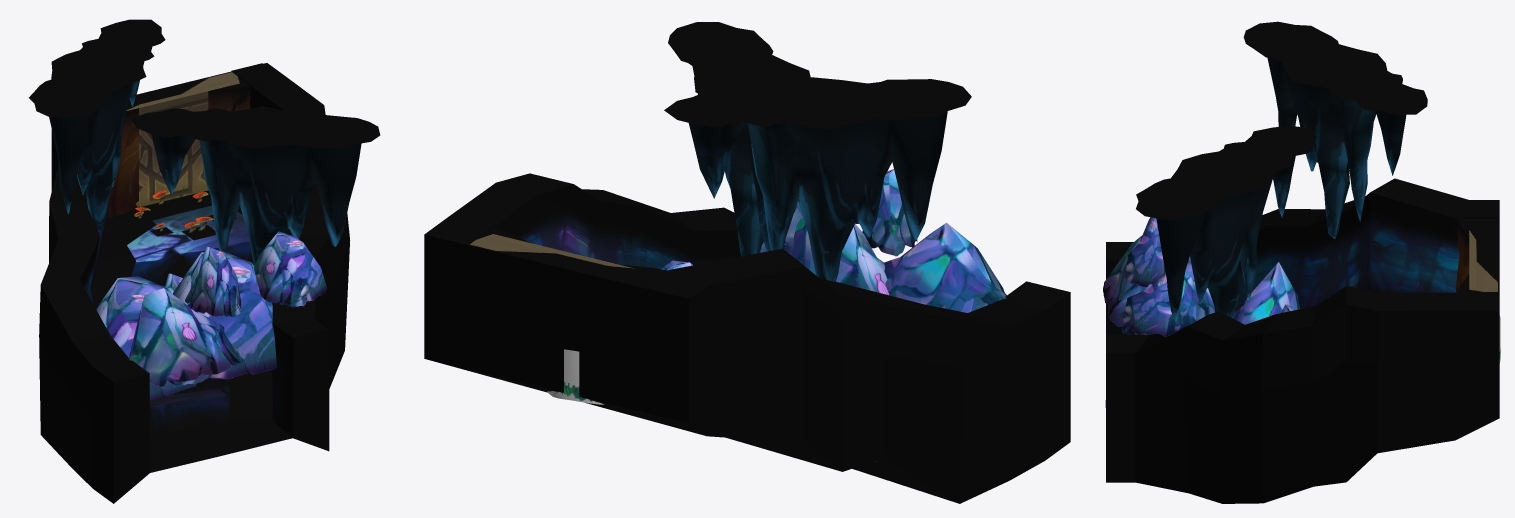
File: Dungeon_052_GoalStep_004.fbx
The picture shows the model from 3 angles, left to right: view 1: azimuth 30°, elevation 25°; view 2: azimuth 150°, elevation 25°; view 3: azimuth 270°, elevation 25°; orthographic projection. The views are drawn at different scales.
Parts seen in each view (by area): view 1: Dan1, Dungeon_011_Iwa004_1, Dungeon_011_Iwa004_1 (1), Dan2, rock2 (1), Dan1_shadow, rock3 (1), Dun_011_Door_002, Dun_011_Door_003_WarpRoom, rock1 (1), rock3, rock4 (1) (+2 smaller); view 2: Dan1, Dungeon_011_Iwa004_1 (1), Dun_011_Door_002, Dungeon_011_Iwa004_1, rock2 (1), rock3 (1), rock4 (1), Dun_011_Door_003_WarpRoom, Plane003 (1); view 3: Dan1, Dungeon_011_Iwa004_1, Dungeon_011_Iwa004_1 (1), Dun_011_Door_002, rock1 (1), rock3, rock4 (1), rock2 (1), Dun_011_Door_003_WarpRoom.
Part boxes in pixels (left/top/right/bottom): Dan1: left=39, top=63, right=349, bottom=503; Dungeon_011_Iwa004_1: left=131, top=106, right=380, bottom=265; Dungeon_011_Iwa004_1 (1): left=29, top=19, right=165, bottom=231; Dan2: left=127, top=205, right=292, bottom=472; rock2 (1): left=129, top=288, right=245, bottom=386; Dan1_shadow: left=91, top=205, right=292, bottom=472; rock3 (1): left=167, top=250, right=276, bottom=385; Dun_011_Door_002: left=108, top=63, right=281, bottom=218; Dun_011_Door_003_WarpRoom: left=126, top=72, right=239, bottom=207; rock1 (1): left=254, top=231, right=326, bottom=307; rock3: left=96, top=276, right=196, bottom=400; rock4 (1): left=185, top=246, right=241, bottom=316; Dan1: left=424, top=173, right=1070, bottom=503; Dungeon_011_Iwa004_1 (1): left=664, top=77, right=971, bottom=281; Dun_011_Door_002: left=431, top=217, right=706, bottom=412; Dungeon_011_Iwa004_1: left=668, top=22, right=810, bottom=256; rock2 (1): left=884, top=222, right=1006, bottom=312; rock3 (1): left=784, top=218, right=889, bottom=295; rock4 (1): left=862, top=169, right=917, bottom=256; Dun_011_Door_003_WarpRoom: left=470, top=234, right=633, bottom=268; Plane003 (1): left=547, top=349, right=603, bottom=404; Dan1: left=1106, top=178, right=1499, bottom=503; Dungeon_011_Iwa004_1: left=1136, top=125, right=1316, bottom=322; Dungeon_011_Iwa004_1 (1): left=1243, top=21, right=1427, bottom=238; Dun_011_Door_002: left=1455, top=201, right=1499, bottom=307; rock1 (1): left=1116, top=269, right=1214, bottom=336; rock3: left=1233, top=262, right=1299, bottom=324; rock4 (1): left=1120, top=217, right=1165, bottom=287; rock2 (1): left=1103, top=235, right=1190, bottom=334; Dun_011_Door_003_WarpRoom: left=1469, top=230, right=1497, bottom=291.
Size of what is drawn, in the model's own units: 7.31 by 6.63 by 6.85.
